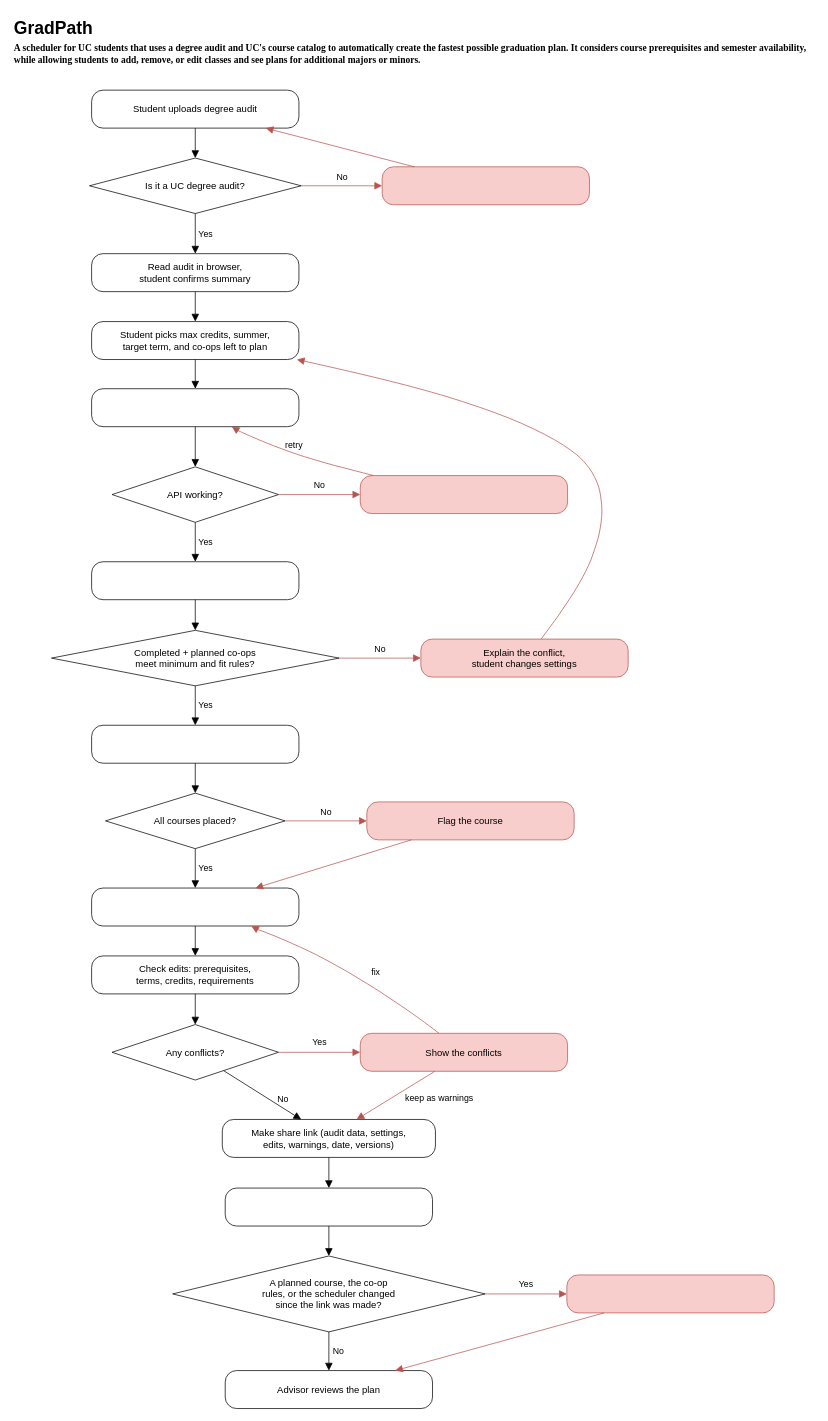
This 828x1421 diagram has some shape labels left out. The shapes that lost their labels are listed below. From the top down, each one's box as (x1, y1, x2, y2) in pixels, then its label:
(381, 166, 589, 205): Reject file and show where to download the audit
(91, 388, 299, 427): Get course data from API
(360, 475, 568, 514): Show error and a Retry button
(91, 561, 299, 600): Place co-op semesters using the co-op rules
(91, 725, 299, 763): Algorithm 1 builds the plan
(91, 887, 299, 926): Show plan, student can edit
(224, 1187, 433, 1226): Advisor opens link, plan is rebuilt
(566, 1274, 774, 1313): Rebuild with current data, warn and list what changed
